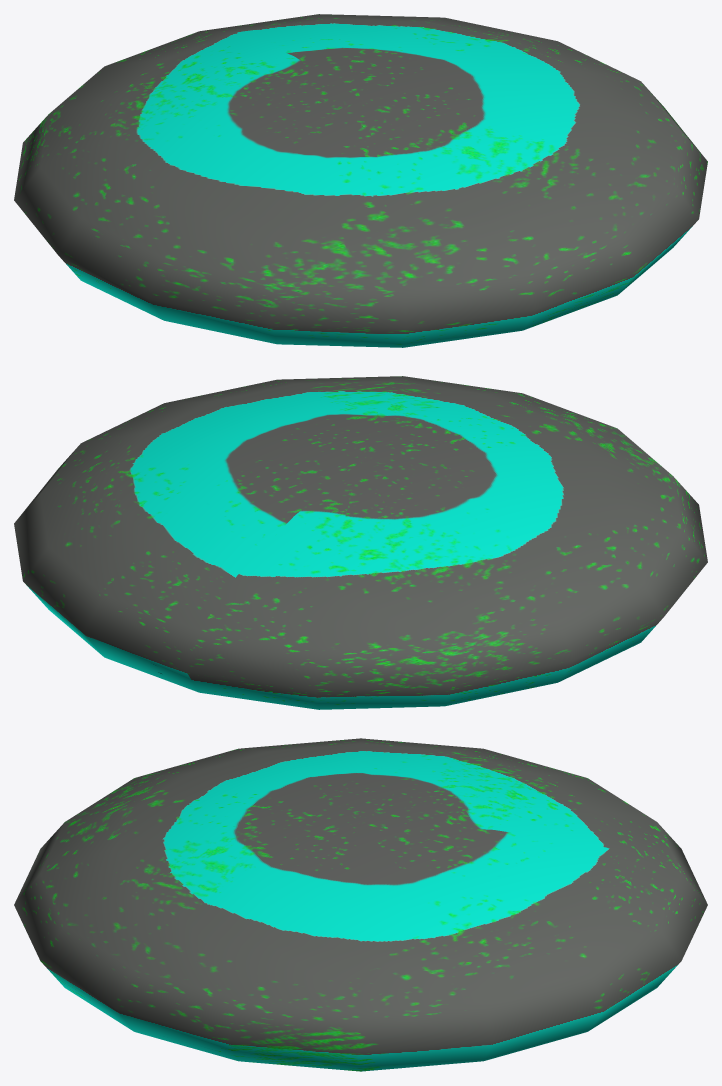
Rendered from disc.FBX.
3 renders of one model, top to bottom at view 1: azimuth 30°, elevation 25°; view 2: azimuth 150°, elevation 25°; view 3: azimuth 270°, elevation 25°, orthographic.
Parts seen in each view (by area): view 1: Sphere001; view 2: Sphere001; view 3: Sphere001.
Boxes of the visible parts, x1,y1,x2,y2 form: Sphere001: [14, 14, 707, 347]; Sphere001: [14, 376, 707, 709]; Sphere001: [14, 738, 707, 1071].
Size of the model in its own units: 8.88 by 8.88 by 1.59.
Materials: 1 (1 with a texture image).
